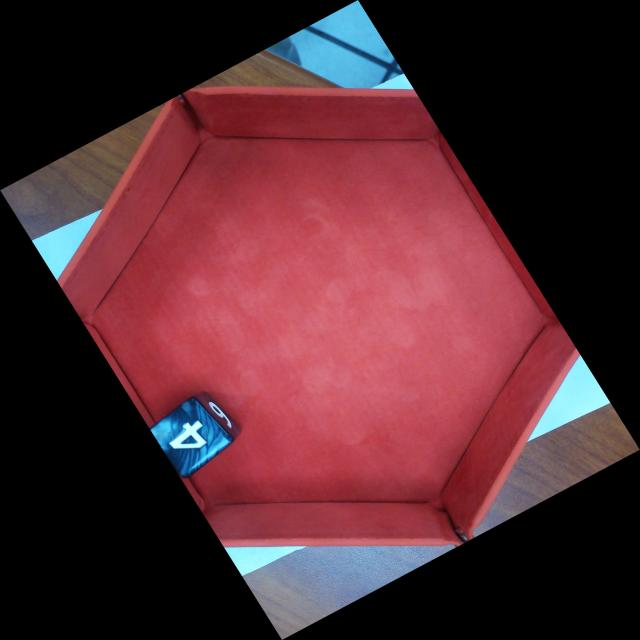dice: (149, 396, 237, 481)
